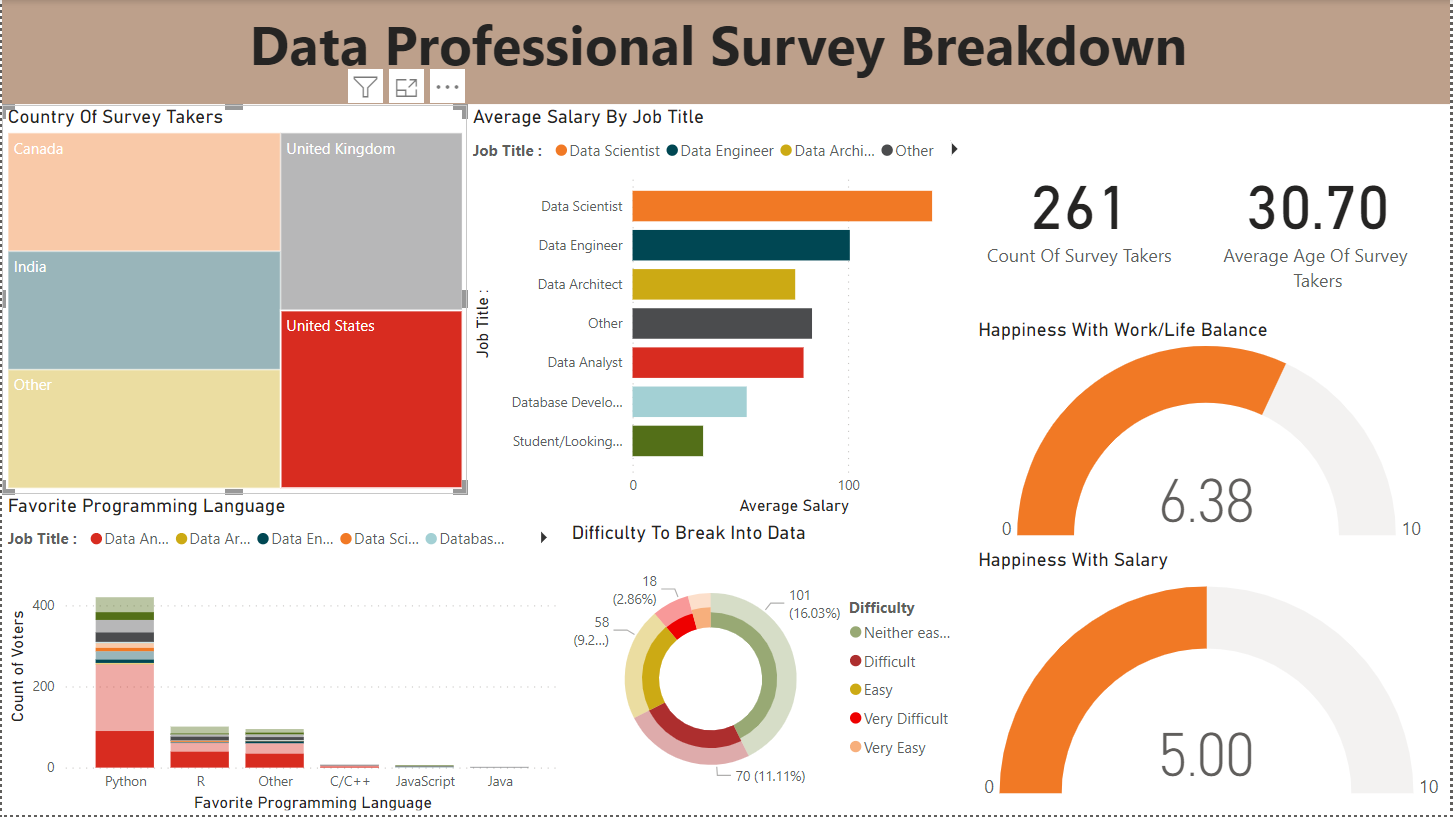

What the dashboard file says about the page in this screenshot:
{"tool":"powerbi","page":{"name":"Page 1","canvas":[1280,720],"ordinal":0},"visuals":[{"type":"textbox","box":[0,0,1280,91.8],"z":0},{"type":"card","fields":{"Values":["Avg(Data Professional Survey.Q10 - Current Age)"]},"box":[1046.7,93.3,233.3,188.3],"z":1000},{"type":"barChart","title":"Average Salary By Job Title","fields":{"Category":["Data Professional Survey.Q1 - Which Title Best Fits your Current Role?.1"],"Y":["Avg(Data Professional Survey.Average Salary)"],"Series":["Data Professional Survey.Q1 - Which Title Best Fits your Current Role?.1"]},"box":[411.7,93.3,446.7,366.7],"z":2000},{"type":"columnChart","title":"Favorite Programming Language","fields":{"Category":["Data Professional Survey.Q5 - Favorite Programming Language.1"],"Y":["CountNonNull(Data Professional Survey.Unique ID)"],"Series":["Data Professional Survey.Q1 - Which Title Best Fits your Current Role?.1"]},"box":[0,435.8,498.1,284.9],"z":3000},{"type":"treemap","title":"Country Of Survey Takers","fields":{"Group":["Data Professional Survey.Q11 - Which Country do you live in?.1"],"Values":["Count(Data Professional Survey.Q11 - Which Country do you live in?.1)"]},"box":[0,93.3,411.7,343.3],"z":4000},{"type":"gauge","title":"Happiness With Work/Life Balance","fields":{"Y":["Avg(Data Professional Survey.Q6 - How Happy are you in your Current Position with the following? (Work/Life Balance))"],"MinValue":["Min(Data Professional Survey.Q6 - How Happy are you in your Current Position with the following? (Work/Life Balance))1"],"MaxValue":["Max(Data Professional Survey.Q6 - How Happy are you in your Current Position with the following? (Work/Life Balance))2"]},"box":[858.3,281.7,421.7,201.7],"z":5000},{"type":"gauge","title":"Happiness With Salary ","fields":{"Y":["Avg(Data Professional Survey.Q6 - How Happy are you in your Current Position with the following? (Salary))"],"MinValue":["Min(Data Professional Survey.Q6 - How Happy are you in your Current Position with the following? (Salary))"],"MaxValue":["Max(Data Professional Survey.Q6 - How Happy are you in your Current Position with the following? (Salary))"]},"box":[858.3,483.3,421.7,236.7],"z":6000},{"type":"donutChart","title":"Difficulty To Break Into Data","fields":{"Category":["Data Professional Survey.Q7 - How difficult was it for you to break into Data?"],"Y":["CountNonNull(Data Professional Survey.Q7 - How difficult was it for you to break into Data?)"]},"box":[498.3,460,360,260],"z":7000},{"type":"card","fields":{"Values":["Count(Data Professional Survey.Unique ID)"]},"box":[858.3,93.3,188.3,188.3],"z":9000}]}

Visuals, with their boxes in screenshot pixels (x1, y1, x2, y2), scaled from the page's 1280x720 canvas onto the 1453x817 screenshot:
textbox: 0/0/1452/104
card - Avg(Data Professional Survey.Q10 - Current Age): 1188/106/1452/320
"Average Salary By Job Title" barChart: 467/106/974/522
"Favorite Programming Language" columnChart: 0/495/565/816
"Country Of Survey Takers" treemap: 0/106/467/495
"Happiness With Work/Life Balance" gauge: 974/320/1452/549
"Happiness With Salary " gauge: 974/548/1452/816
"Difficulty To Break Into Data" donutChart: 566/522/974/816
card - Count(Data Professional Survey.Unique ID): 974/106/1188/320
